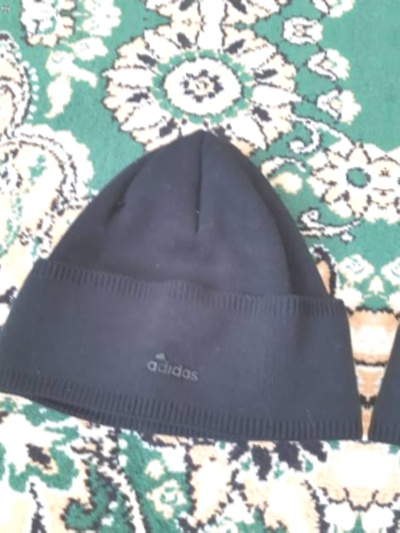Hat: (0, 103, 374, 463), (379, 132, 400, 493)
